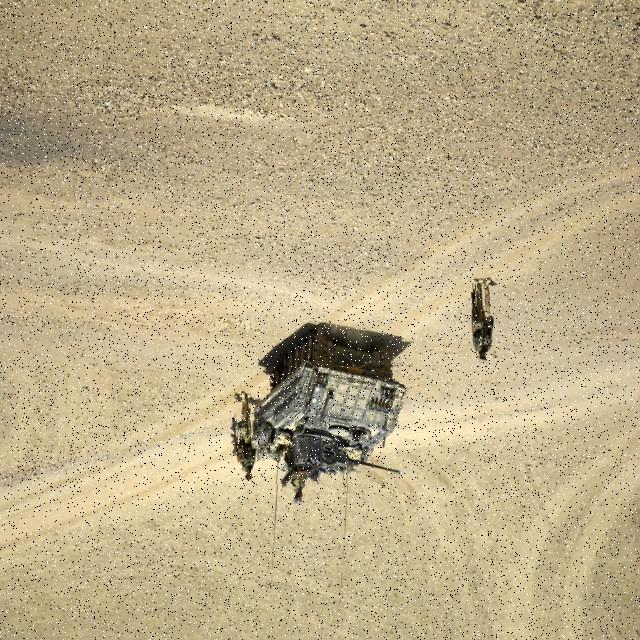MIL_MBT: (251, 324, 409, 483)
